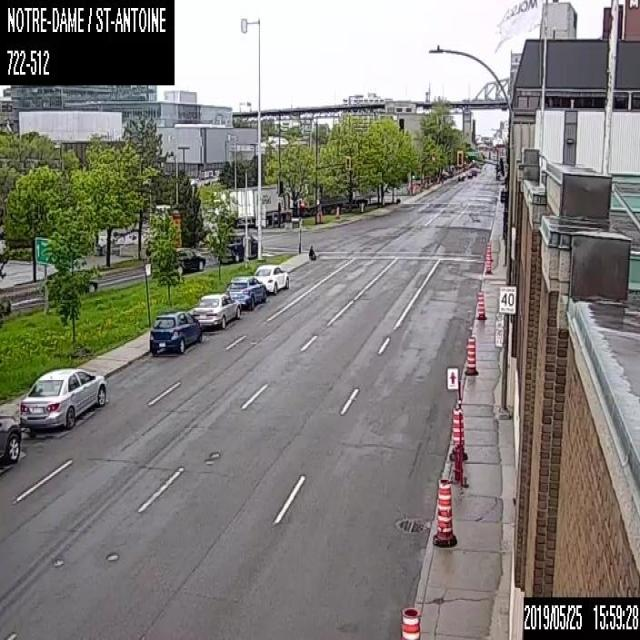construction: (431, 476, 457, 547), (448, 406, 468, 462), (398, 604, 421, 639), (464, 334, 478, 374), (474, 288, 487, 320), (483, 242, 492, 274), (335, 204, 339, 217)
cyclist: (308, 244, 316, 267)
vehicle: (20, 367, 107, 428), (148, 310, 202, 354), (192, 293, 240, 328), (225, 275, 265, 309), (253, 263, 289, 294), (222, 231, 258, 261), (0, 413, 21, 463), (176, 246, 204, 274)
